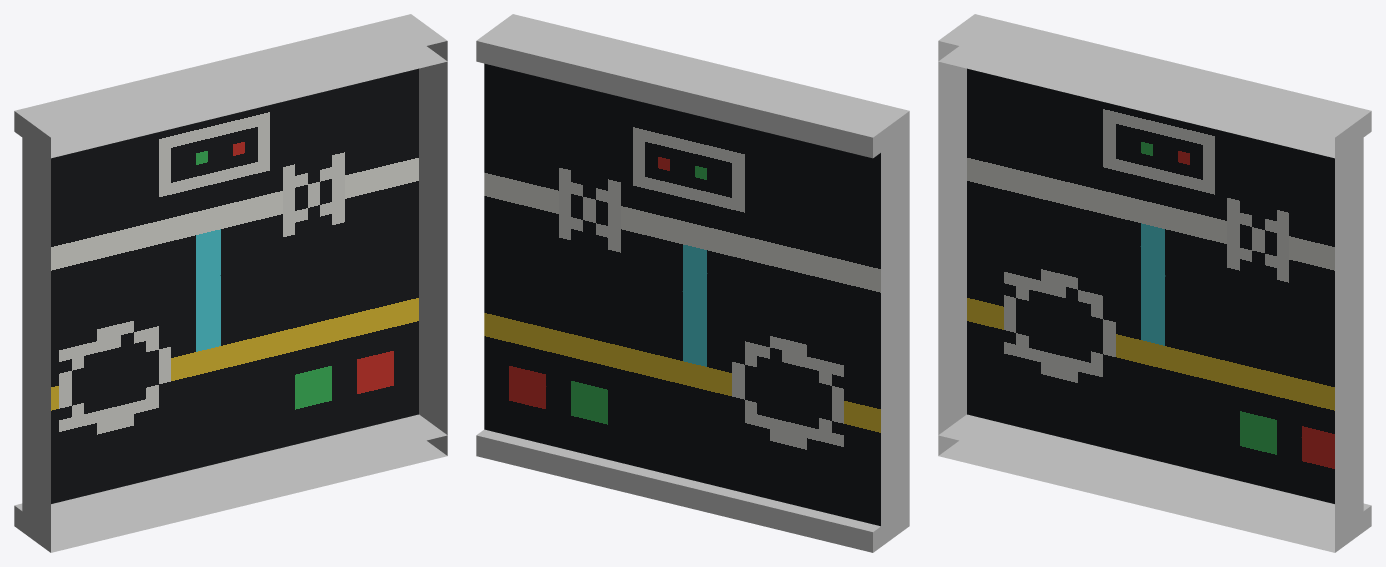
File: mimic_band_black.obj
3 renders of one model, left to right at view 1: azimuth 30°, elevation 25°; view 2: azimuth 150°, elevation 25°; view 3: azimuth 330°, elevation 25°, orthographic.
Parts seen in each view (by area): view 1: mimic_band_black; view 2: mimic_band_black; view 3: mimic_band_black.
Part boxes in pixels (x1,y1,x2,y2): mimic_band_black: (14, 14, 447, 552); mimic_band_black: (476, 14, 909, 552); mimic_band_black: (938, 14, 1371, 552).
Bounding box in the file's own units: 1 × 1 × 0.16.
